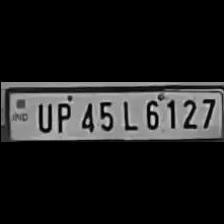1: (162, 96, 178, 130)
2: (178, 96, 198, 130)
4: (75, 98, 95, 132)
5: (94, 97, 116, 130)
6: (140, 97, 160, 131)
7: (198, 96, 216, 128)
L: (118, 97, 138, 131)
P: (52, 98, 72, 132)
U: (30, 100, 52, 132)
